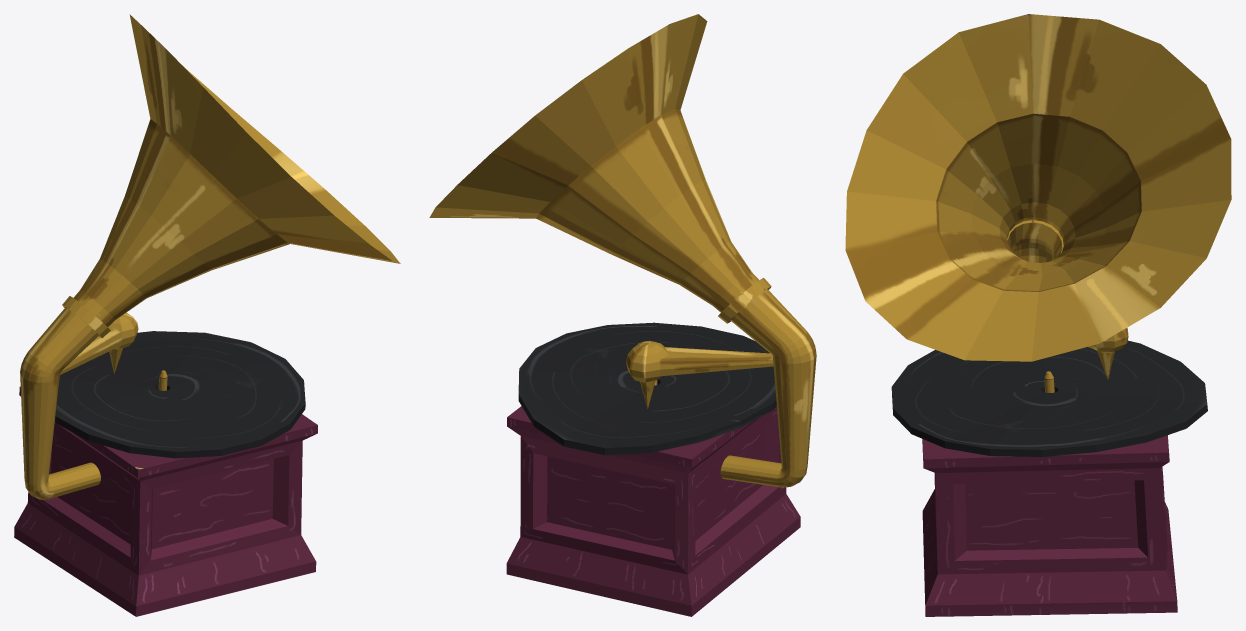
File: gramaphone_texture_paint.fbx
3 views of the same model, side by side, from view 1: azimuth 30°, elevation 25°; view 2: azimuth 150°, elevation 25°; view 3: azimuth 270°, elevation 25° (orthographic). The views are drawn at different scales.
Visible parts, largest first — view 1: Cube.003; view 2: Cube.003; view 3: Cube.003.
Boxes of the visible parts, x1,y1,x2,y2 form: Cube.003: [14, 14, 400, 616]; Cube.003: [429, 14, 816, 616]; Cube.003: [845, 14, 1231, 616].
Size of the model in its own units: 58.18 by 83.5 by 52.87.
